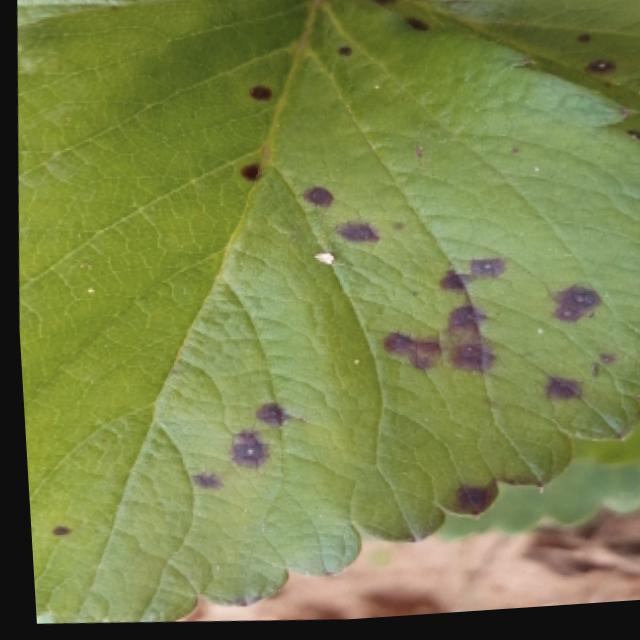Leaf Spot: (15, 0, 640, 624), (363, 0, 640, 153), (564, 414, 640, 477), (16, 0, 173, 27)
